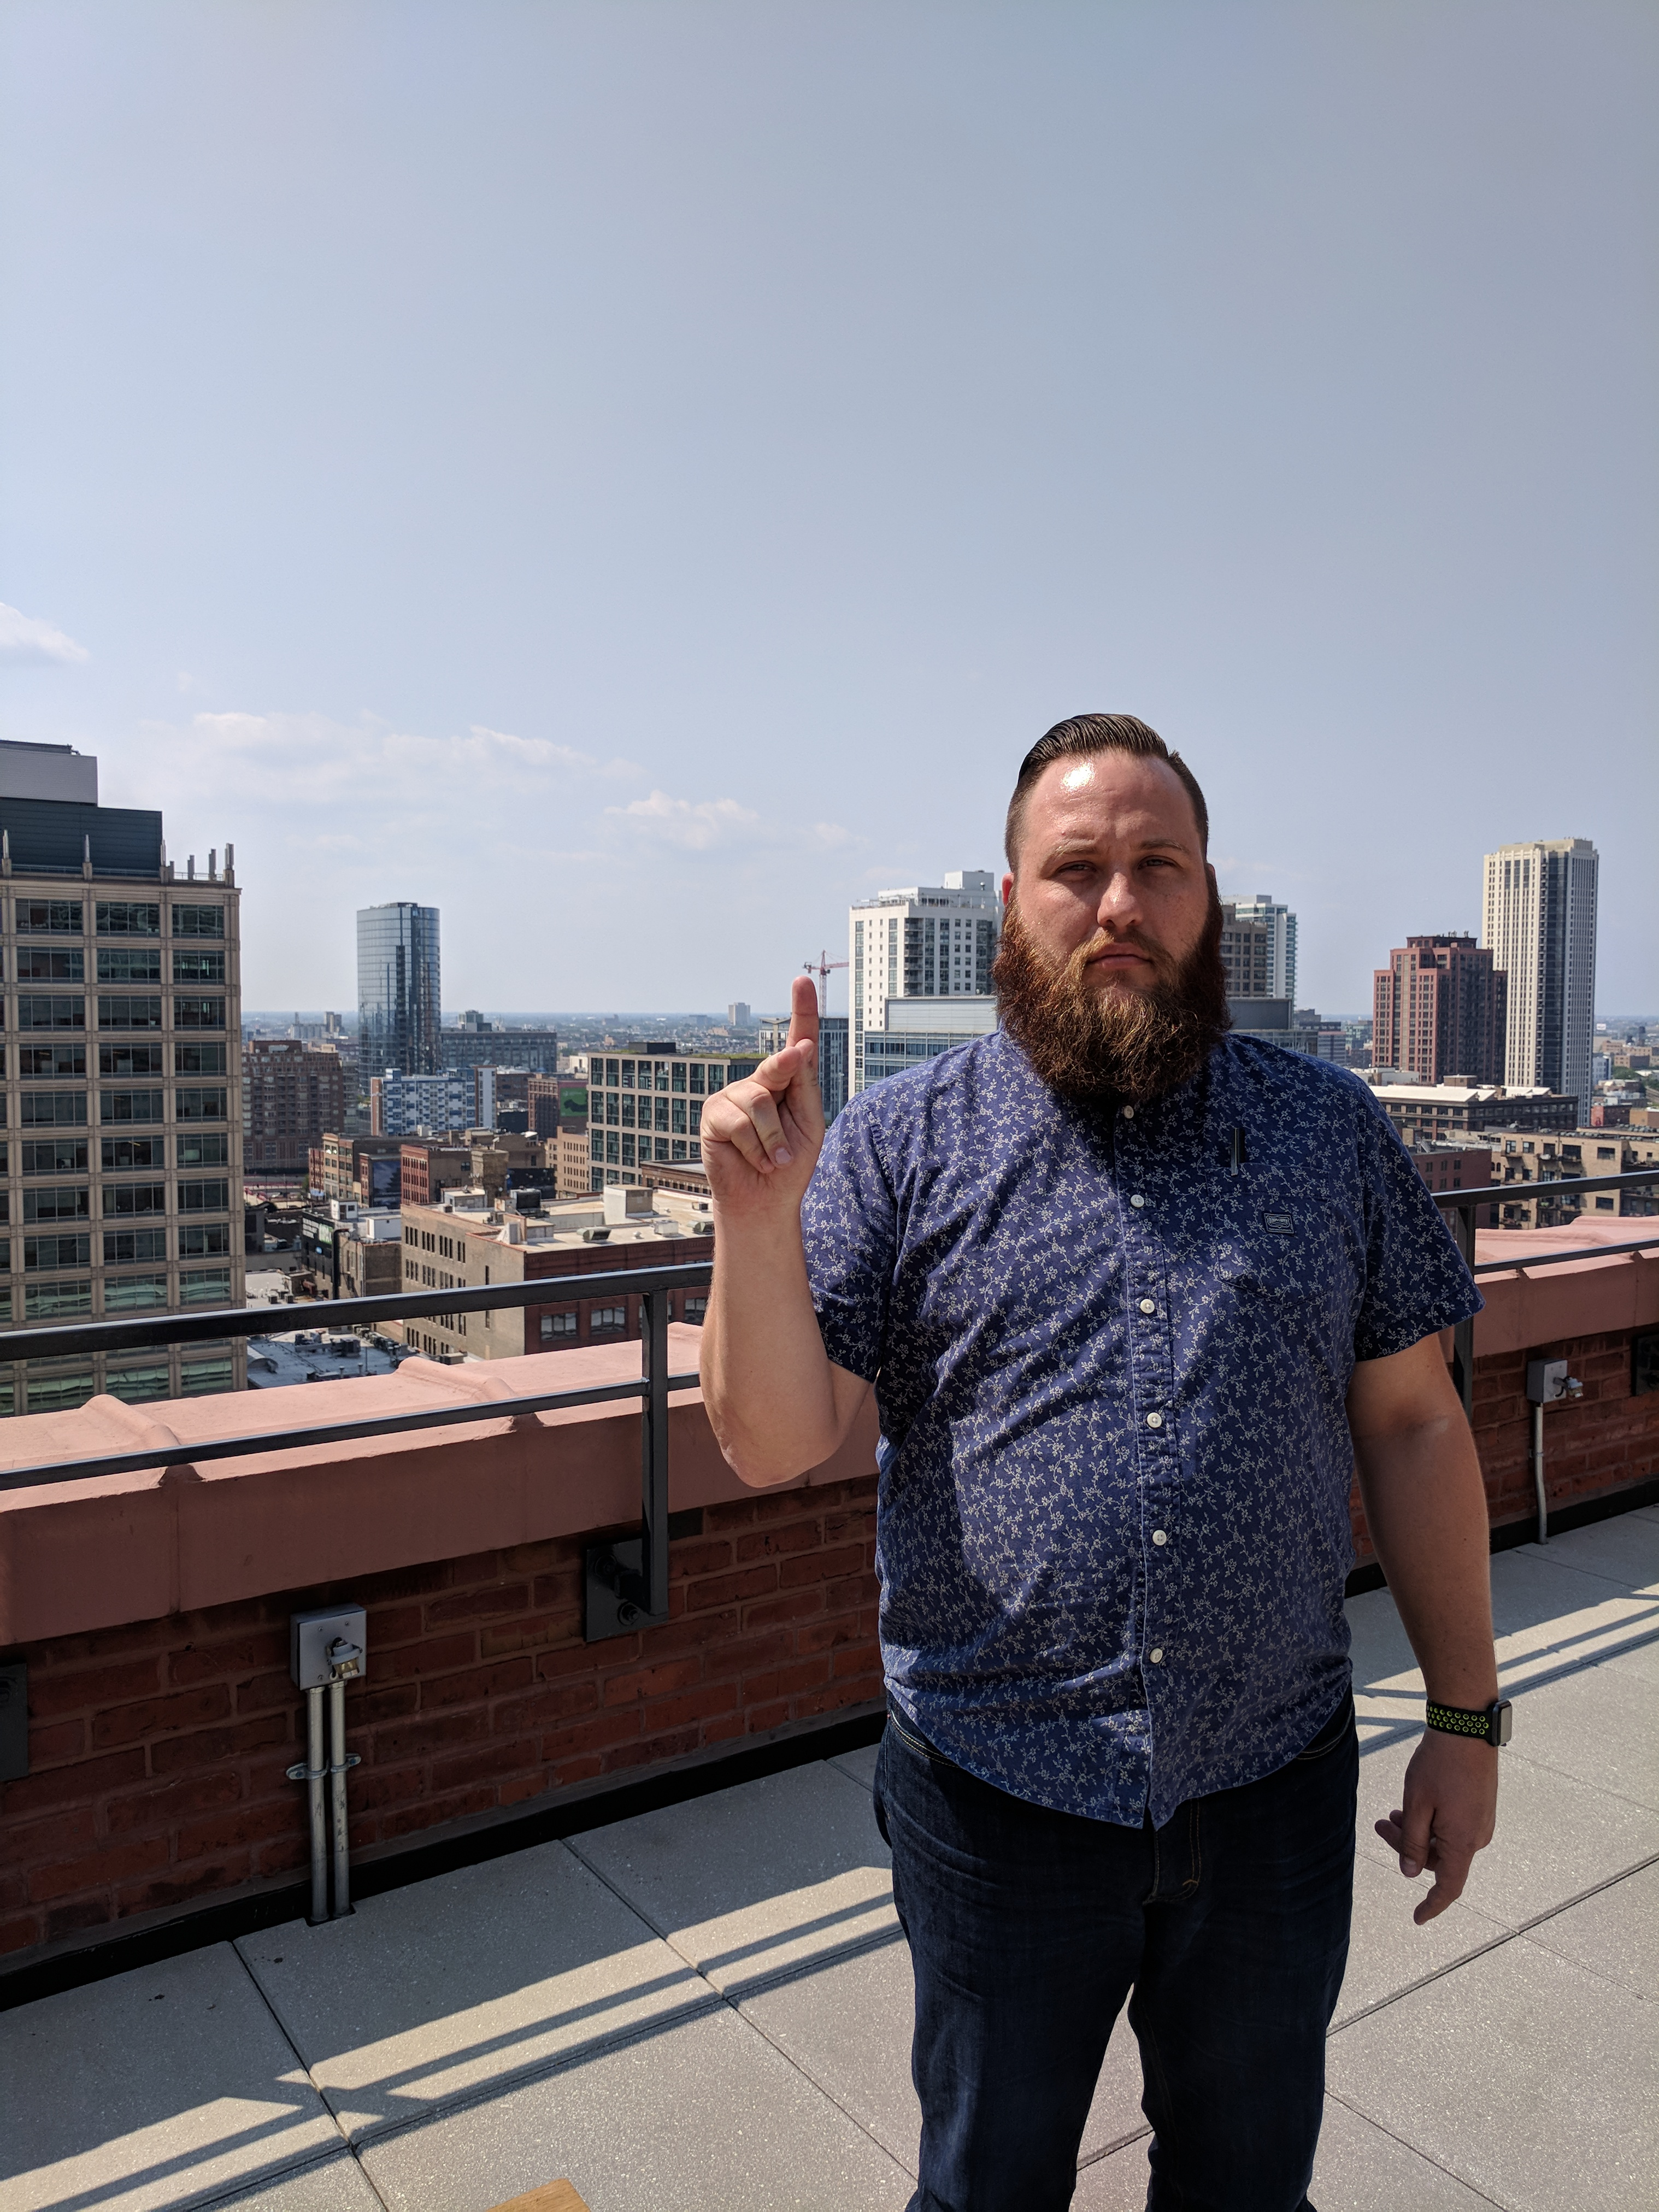k: (706, 967, 838, 1212)
